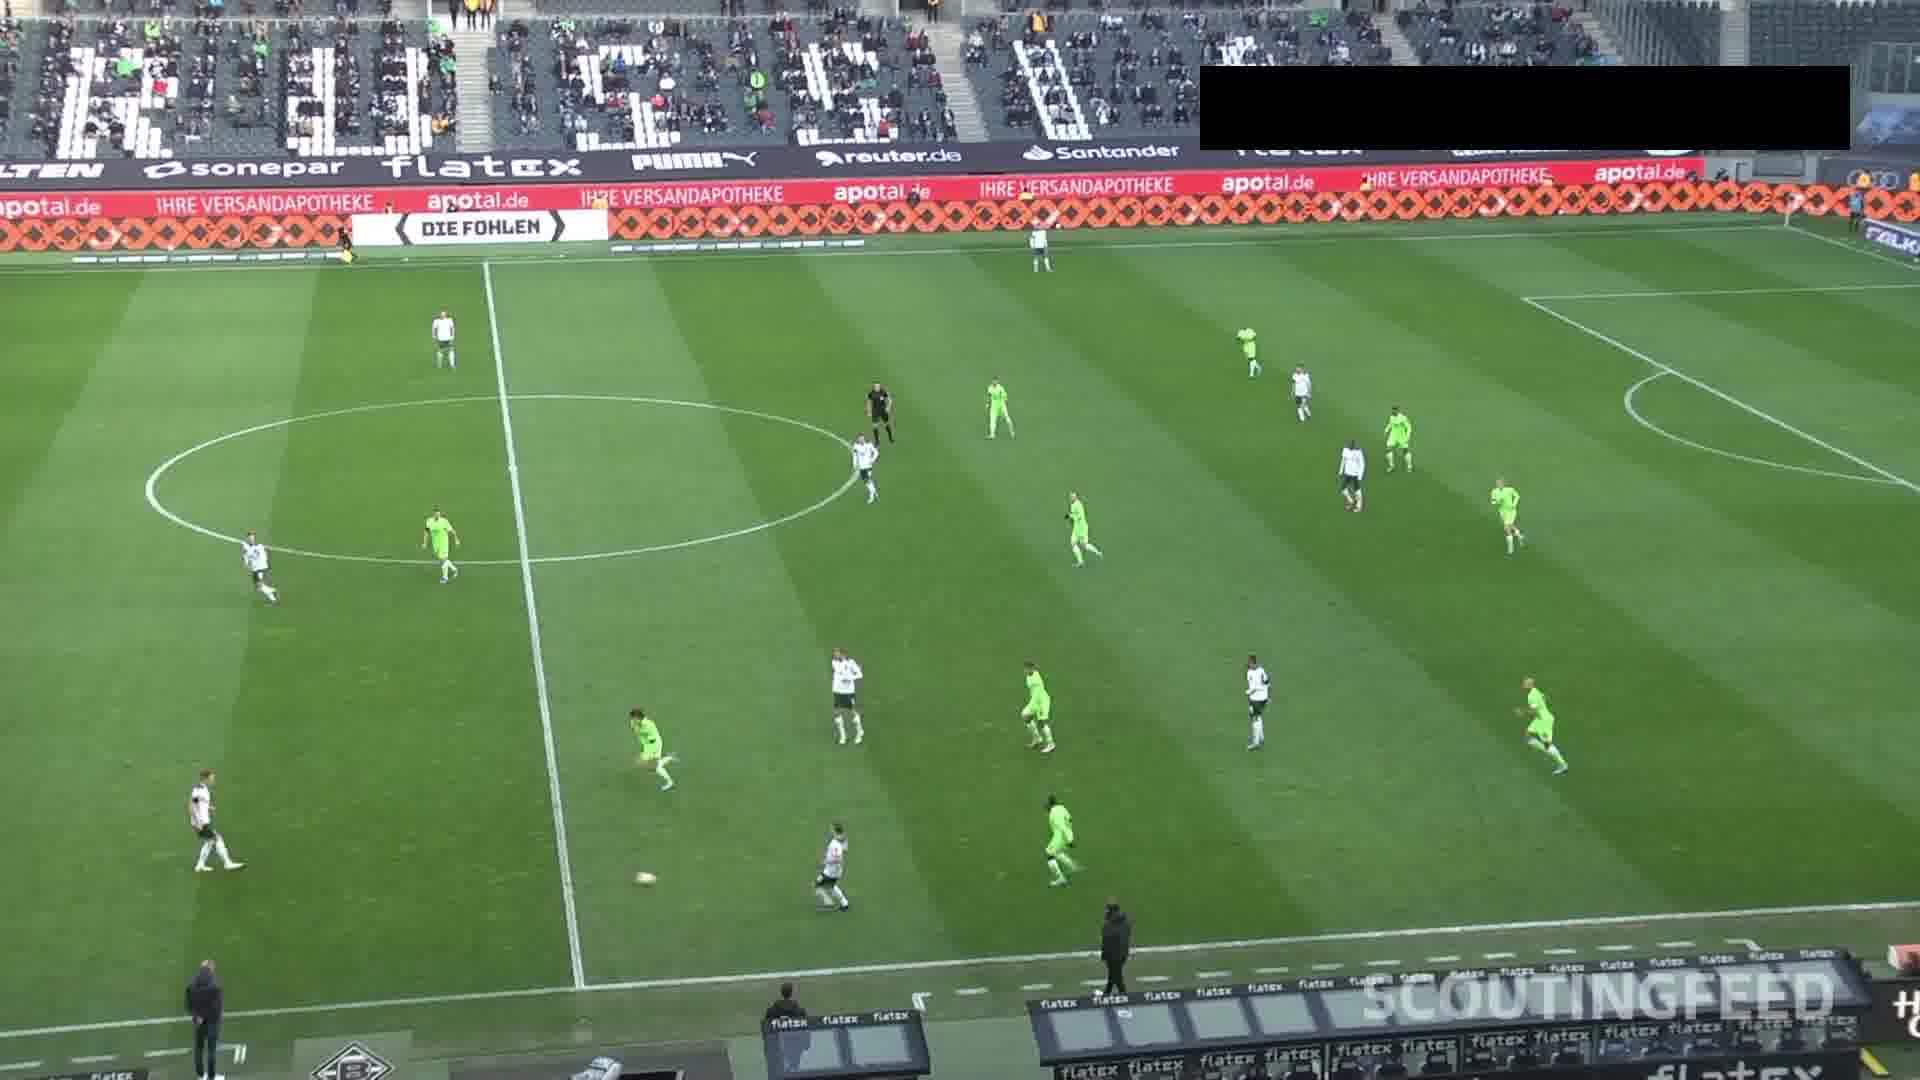football: (634, 872, 657, 887)
